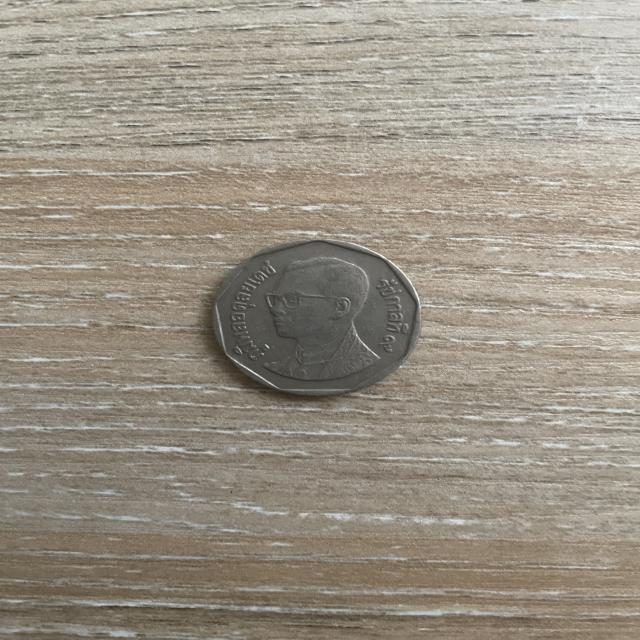5 Bath: (202, 232, 434, 405)
